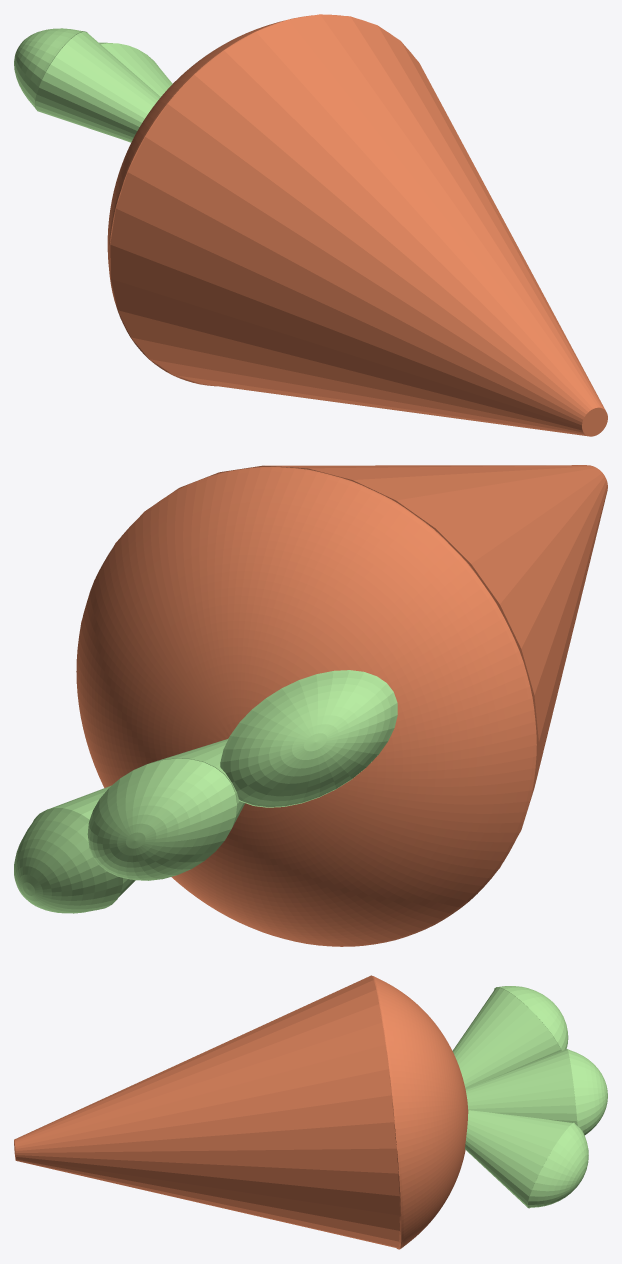
The model's file is food_1_carrot.fbx.
The picture shows the model from 3 angles, top to bottom: view 1: azimuth 30°, elevation 25°; view 2: azimuth 150°, elevation 25°; view 3: azimuth 270°, elevation 25°; orthographic projection. The views are drawn at different scales.
Visible parts, largest first — view 1: food_carrot; view 2: food_carrot; view 3: food_carrot.
Part boxes in pixels (bbox=[...]): food_carrot: bbox=[14, 14, 607, 436]; food_carrot: bbox=[14, 465, 607, 946]; food_carrot: bbox=[14, 975, 607, 1249].
Bounding box in the file's own units: 30.47 × 30.64 × 66.05.
